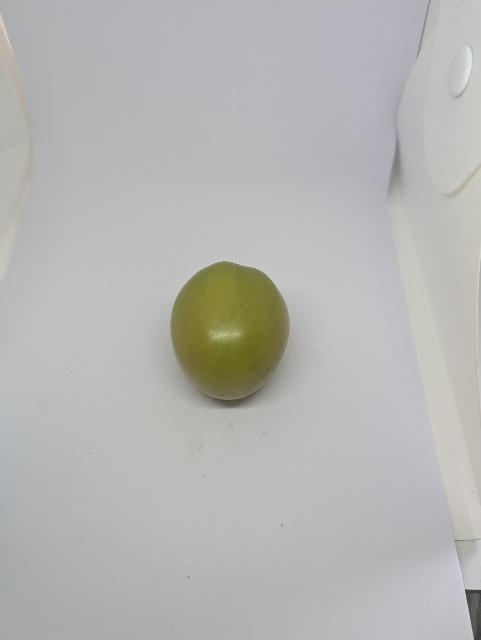green: (159, 251, 297, 407)
